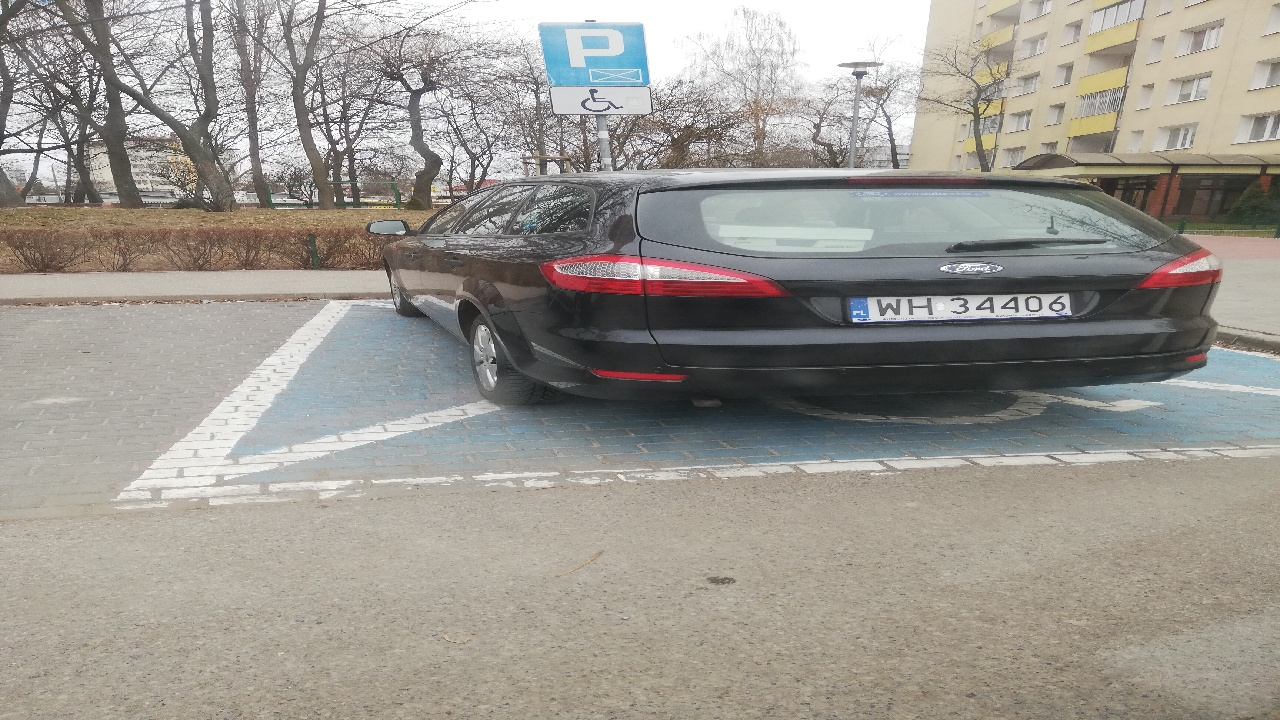D18: (536, 18, 659, 88)
